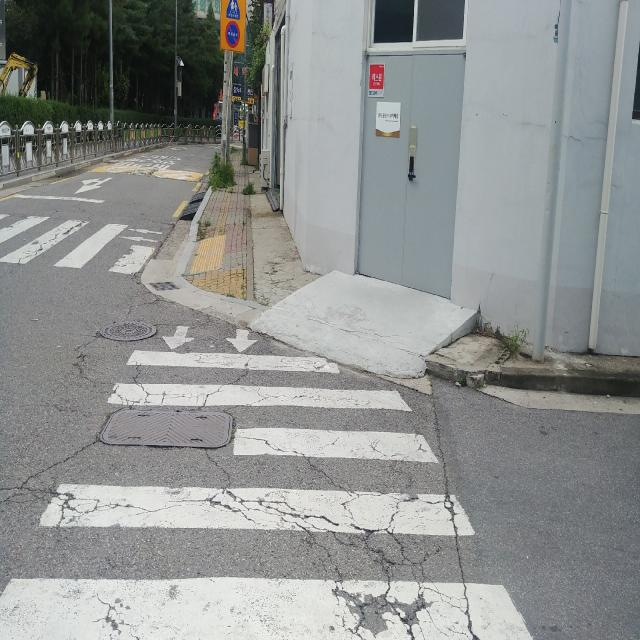횡단보도: (0, 319, 540, 640), (0, 212, 171, 282)
